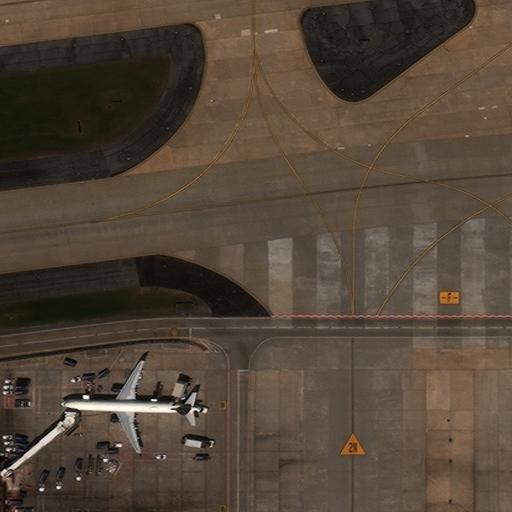Medium Civil Transport: (60, 359, 209, 452)
